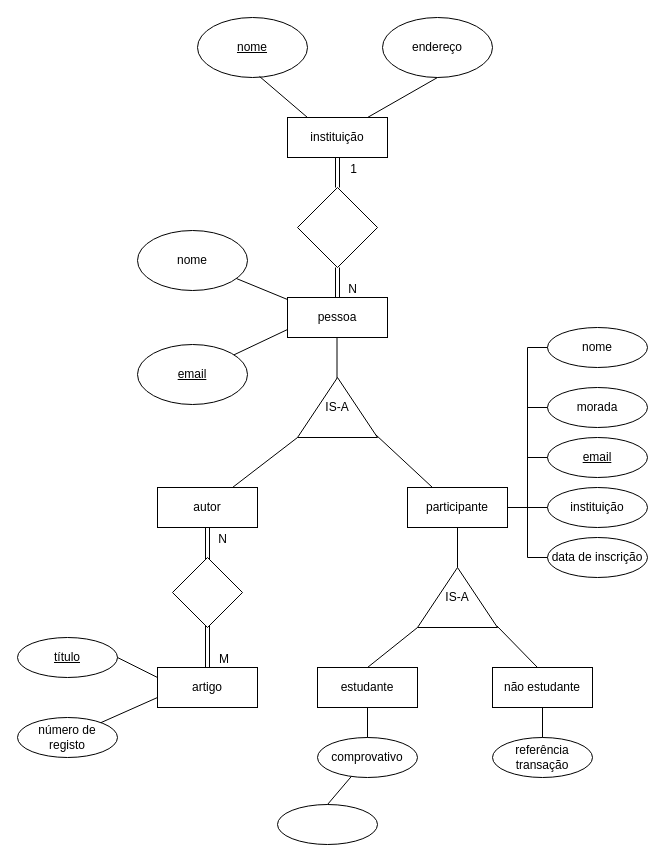
Image size: 665x862. Some labels were removed from this diagram. The shapes that lost their labels are listed below. From the top down, each one's centre as x and y in pixels, then its label:
At point 337,227: "pertence".
At point 207,592: "tem".
At point 327,824: "localização eletrónica".
